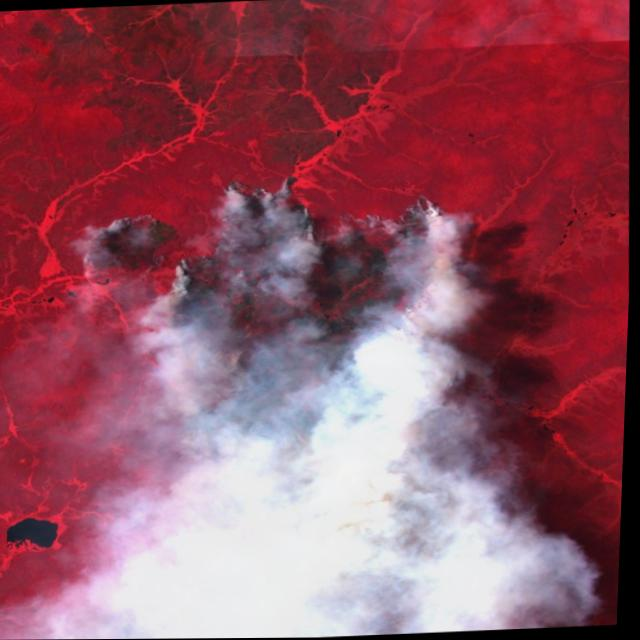fire: (63, 166, 466, 483)
